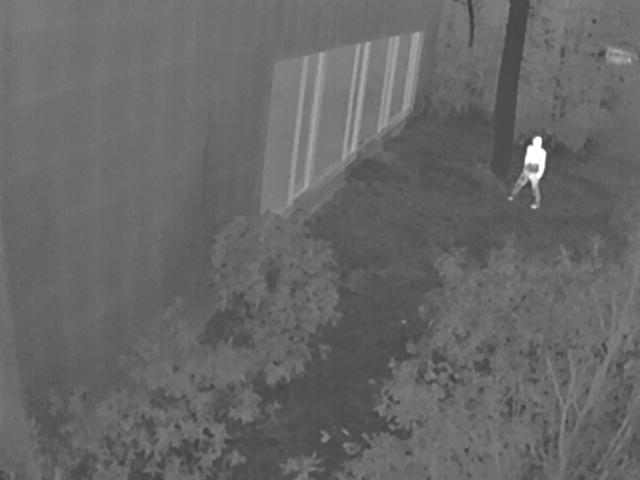person: (510, 135, 547, 207)
